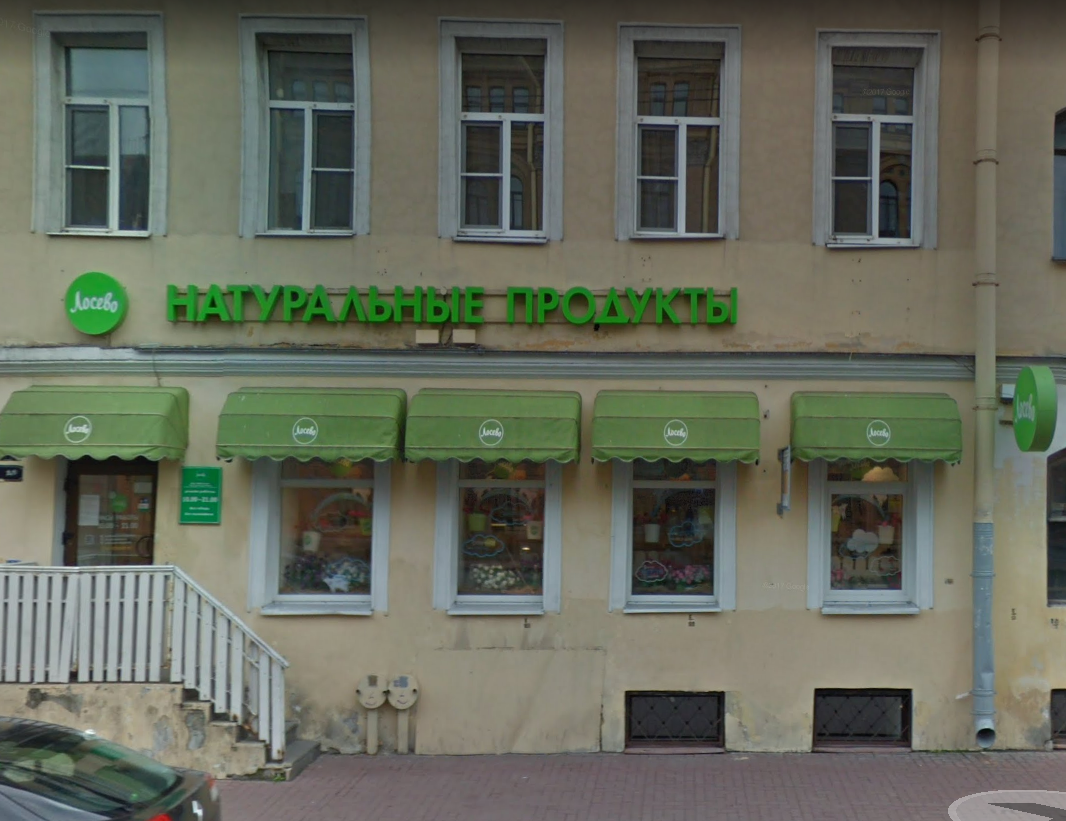cantilever: (998, 354, 1066, 449)
signboard: (56, 255, 749, 345)
window: (243, 50, 358, 239), (58, 39, 157, 236), (451, 48, 546, 238), (635, 56, 722, 237), (833, 66, 918, 246), (275, 460, 373, 607), (452, 461, 545, 607), (636, 460, 724, 605), (830, 465, 914, 597), (815, 690, 911, 750), (626, 696, 724, 746)
